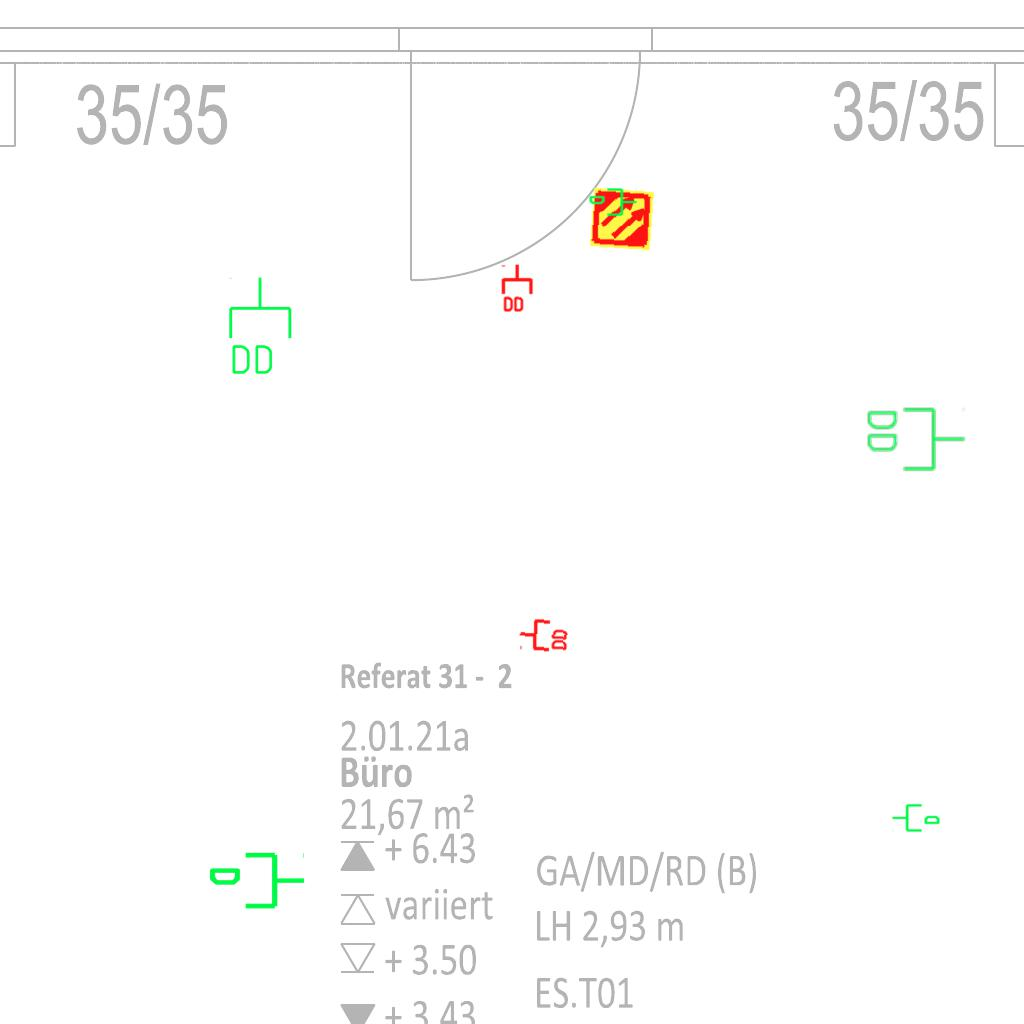ASR_Ansaugrauchmelder: (588, 185, 656, 253)
Datenanschluss_einfach: (207, 848, 307, 917), (891, 800, 941, 834), (588, 186, 638, 220)
Datenanschluss_zweifach: (864, 404, 967, 473), (225, 275, 294, 378), (517, 616, 571, 653), (501, 263, 535, 314)
